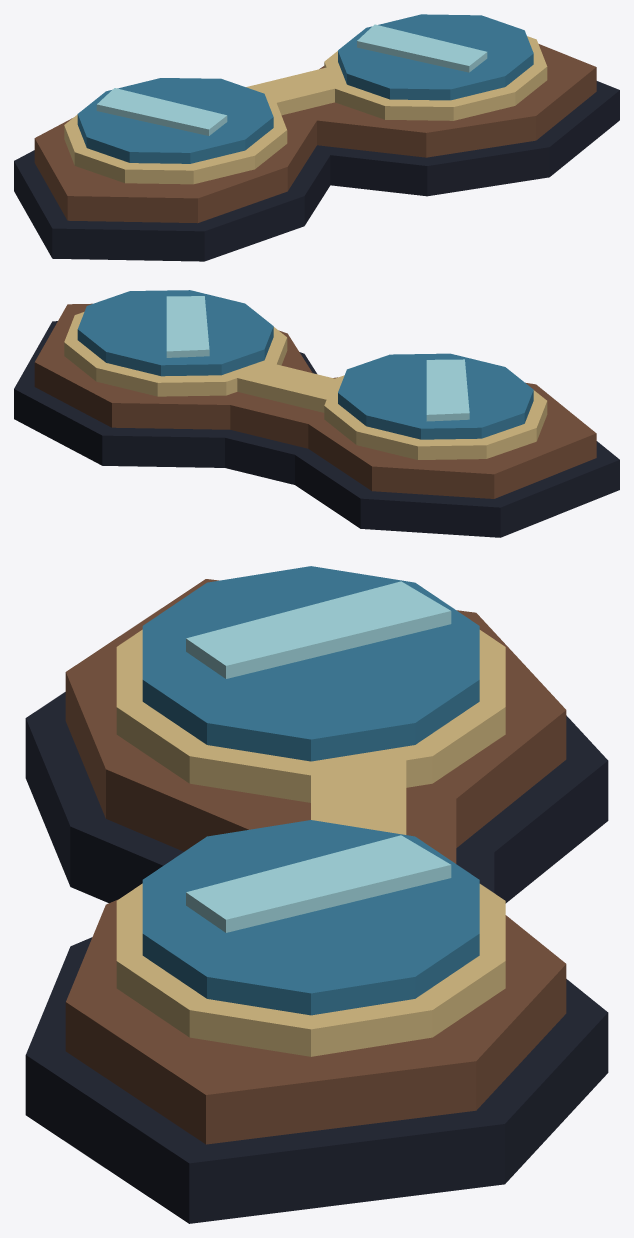
File: pilot_glasses.fbx
3 renders of one model, top to bottom at view 1: azimuth 30°, elevation 25°; view 2: azimuth 150°, elevation 25°; view 3: azimuth 270°, elevation 25°, orthographic. The views are drawn at different scales.
Visible parts, largest first — view 1: pilot_glasses; view 2: pilot_glasses; view 3: pilot_glasses.
Part boxes in pixels (left/top/right/bottom): pilot_glasses: left=14, top=14, right=619, bottom=261; pilot_glasses: left=14, top=290, right=619, bottom=537; pilot_glasses: left=25, top=566, right=608, bottom=1223.
Bounding box in the file's own units: 1.08 × 0.167 × 0.4798.
Materials: 1 (1 with a texture image).
